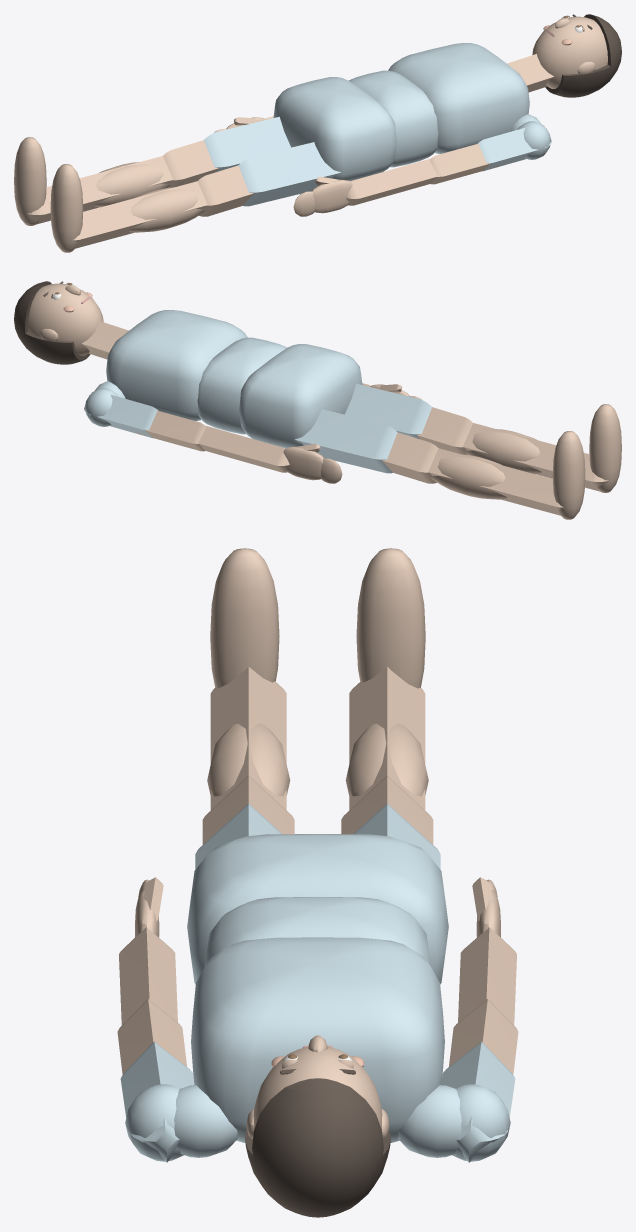
File: patient_adult_male.glb
3 views of the same model, one above another, from view 1: azimuth 30°, elevation 25°; view 2: azimuth 150°, elevation 25°; view 3: azimuth 270°, elevation 25° (orthographic). The views are drawn at different scales.
Visible parts, largest first — view 1: chest, pelvis, thigh_l, head, shin_l, thigh_r, abdomen, upper_arm_l, shin_r, foot_l, foot_r, forearm_l (+2 smaller); view 2: chest, pelvis, thigh_r, head, shin_r, thigh_l, abdomen, upper_arm_r, shin_l, foot_r, foot_l, forearm_r (+2 smaller); view 3: chest, head, pelvis, upper_arm_l, upper_arm_r, shin_l, shin_r, abdomen, foot_l, foot_r, thigh_l, thigh_r (+4 smaller).
Boxes of the visible parts, bbox=[...] form: chest: bbox=[388, 43, 529, 153]; pelvis: bbox=[273, 77, 396, 181]; thigh_l: bbox=[197, 142, 341, 216]; head: bbox=[532, 14, 621, 97]; shin_l: bbox=[72, 181, 207, 248]; thigh_r: bbox=[163, 116, 290, 187]; abdomen: bbox=[349, 70, 438, 167]; upper_arm_l: bbox=[429, 114, 551, 184]; shin_r: bbox=[27, 156, 172, 224]; foot_l: bbox=[50, 164, 83, 252]; foot_r: bbox=[14, 137, 46, 225]; forearm_l: bbox=[346, 158, 437, 205]; chest: bbox=[106, 310, 247, 420]; pelvis: bbox=[239, 344, 362, 448]; thigh_r: bbox=[294, 409, 438, 483]; head: bbox=[14, 281, 103, 364]; shin_r: bbox=[428, 448, 563, 515]; thigh_l: bbox=[345, 383, 472, 454]; abdomen: bbox=[197, 337, 286, 434]; upper_arm_r: bbox=[84, 381, 206, 451]; shin_l: bbox=[463, 423, 608, 491]; foot_r: bbox=[552, 431, 585, 519]; foot_l: bbox=[589, 404, 621, 492]; forearm_r: bbox=[198, 425, 289, 472]; chest: bbox=[191, 937, 444, 1142]; head: bbox=[245, 1035, 390, 1217]; pelvis: bbox=[187, 834, 448, 984]; upper_arm_l: bbox=[117, 999, 237, 1162]; upper_arm_r: bbox=[398, 999, 518, 1162]; shin_l: bbox=[207, 666, 290, 810]; shin_r: bbox=[345, 666, 428, 810]; abdomen: bbox=[204, 897, 431, 966]; foot_l: bbox=[210, 548, 279, 688]; foot_r: bbox=[356, 548, 425, 688]; thigh_l: bbox=[195, 775, 294, 869]; thigh_r: bbox=[341, 775, 440, 869].
Size of the model in its own units: 1.75 by 0.2698 by 0.521.
